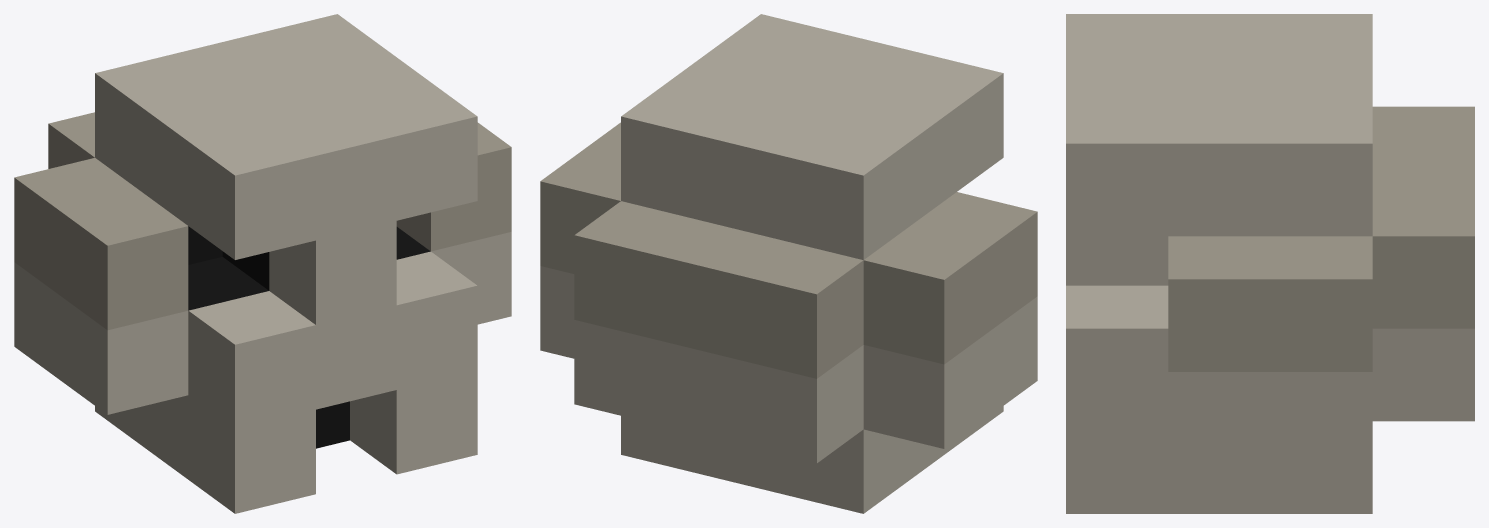
Rendered from church-50-skull.obj.
3 views of the same model, side by side, from view 1: azimuth 30°, elevation 25°; view 2: azimuth 150°, elevation 25°; view 3: azimuth 270°, elevation 25° (orthographic). The views are drawn at different scales.
Parts seen in each view (by area): view 1: skull; view 2: skull; view 3: skull.
Part boxes in pixels (left/top/right/bottom): skull: left=14, top=14, right=511, bottom=513; skull: left=540, top=14, right=1037, bottom=513; skull: left=1066, top=14, right=1474, bottom=513.
Size of the model in its own units: 0.5 by 0.4 by 0.4.
1 material, 1 textured.
